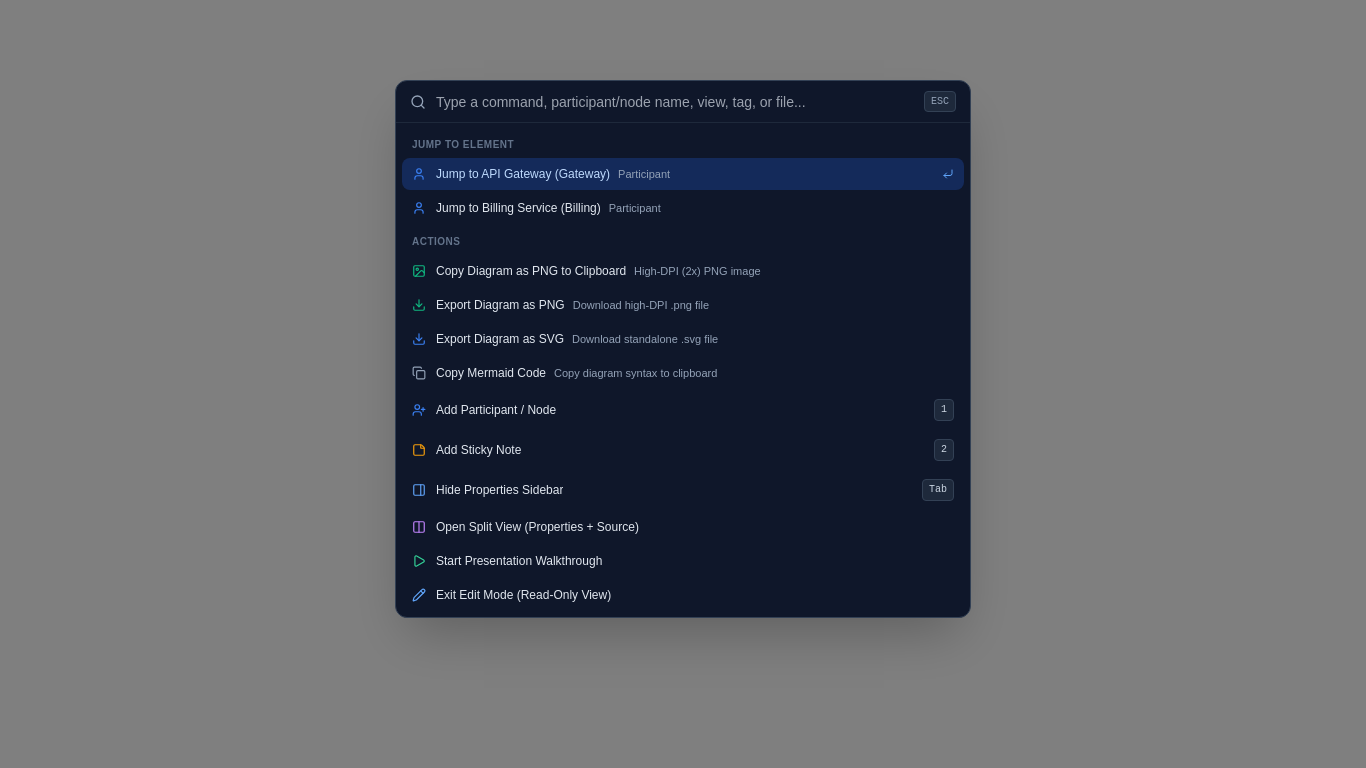
Test: CommandPalette › lists participants, actions, views, tags, and files and filters by search query
Expected: the dialog with test id "command-palette" is shown, [395,80,971,618]
Expected: the button with test id "cmd-jump-Gateway" is shown, [402,158,964,190]
Type "Billing" into the field with test id "command-palette-input".
click(676, 102); type("Billing")  # box [436,92,916,112]
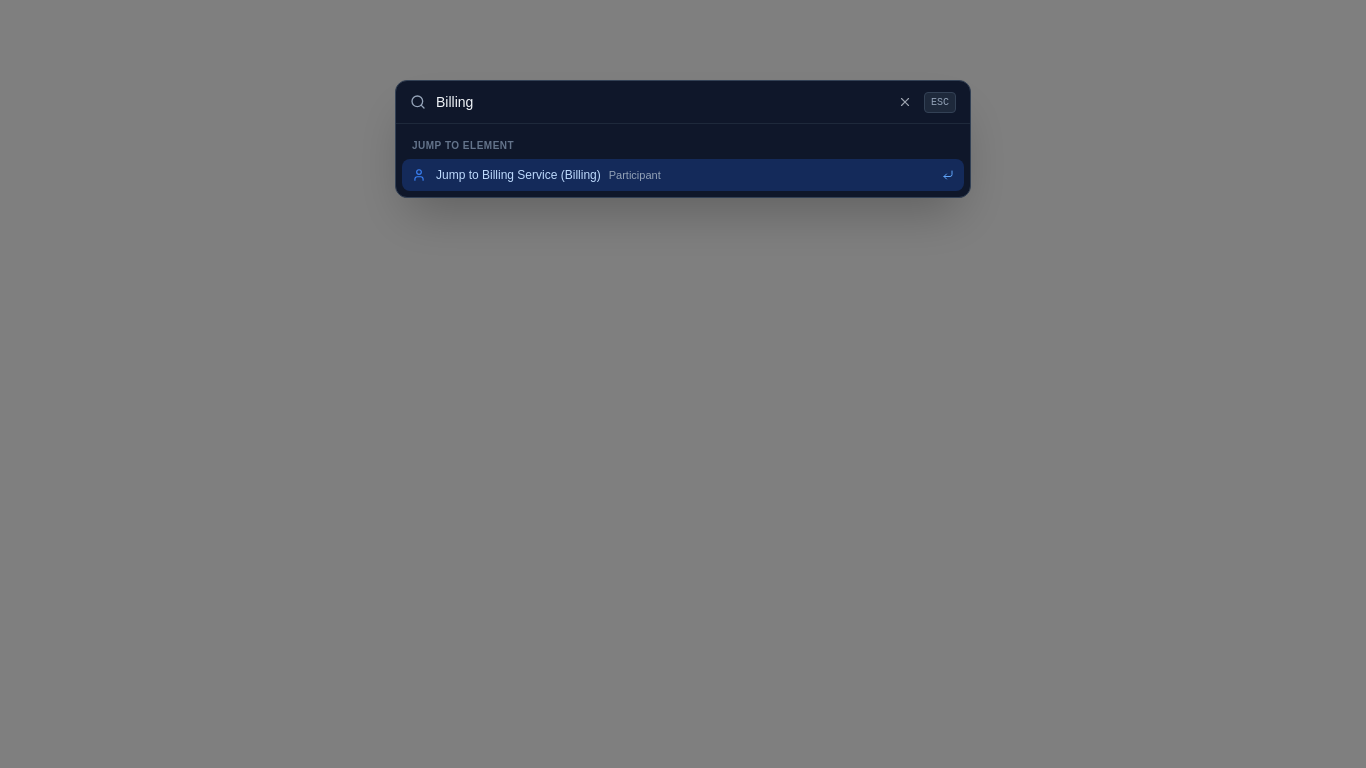
Expected: the button with test id "cmd-jump-Billing" is shown, [402,159,964,191]
Now the button with test id "cmd-jump-Gateway" is gone
